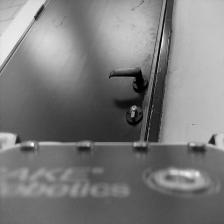Door Handle: (109, 66, 149, 92)
Lock: (126, 103, 143, 126)
